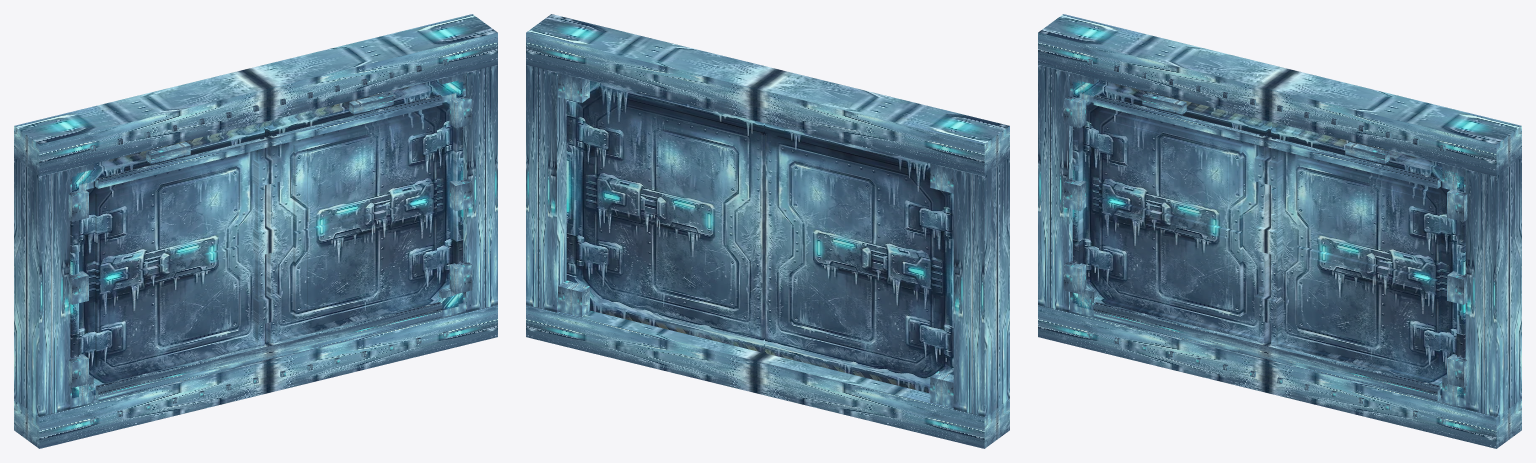
File: hangar_kapi_ice.glb
3 views of the same model, side by side, from view 1: azimuth 30°, elevation 25°; view 2: azimuth 150°, elevation 25°; view 3: azimuth 330°, elevation 25° (orthographic).
Parts seen in each view (by area): view 1: FRAME, DOOR_R, DOOR_L; view 2: FRAME, DOOR_R, DOOR_L; view 3: FRAME, DOOR_L, DOOR_R.
Boxes of the visible parts, <box> form: FRAME: <box>14,14,497,448</box>; DOOR_R: <box>264,79,463,343</box>; DOOR_L: <box>70,122,270,398</box>; FRAME: <box>526,14,1009,448</box>; DOOR_R: <box>566,80,764,352</box>; DOOR_L: <box>765,123,953,393</box>; FRAME: <box>1038,14,1521,448</box>; DOOR_L: <box>1072,79,1271,343</box>; DOOR_R: <box>1265,122,1465,398</box>.
Size of the model in its own units: 10.4 by 6.6 by 1.14.
1 material, 1 textured.
